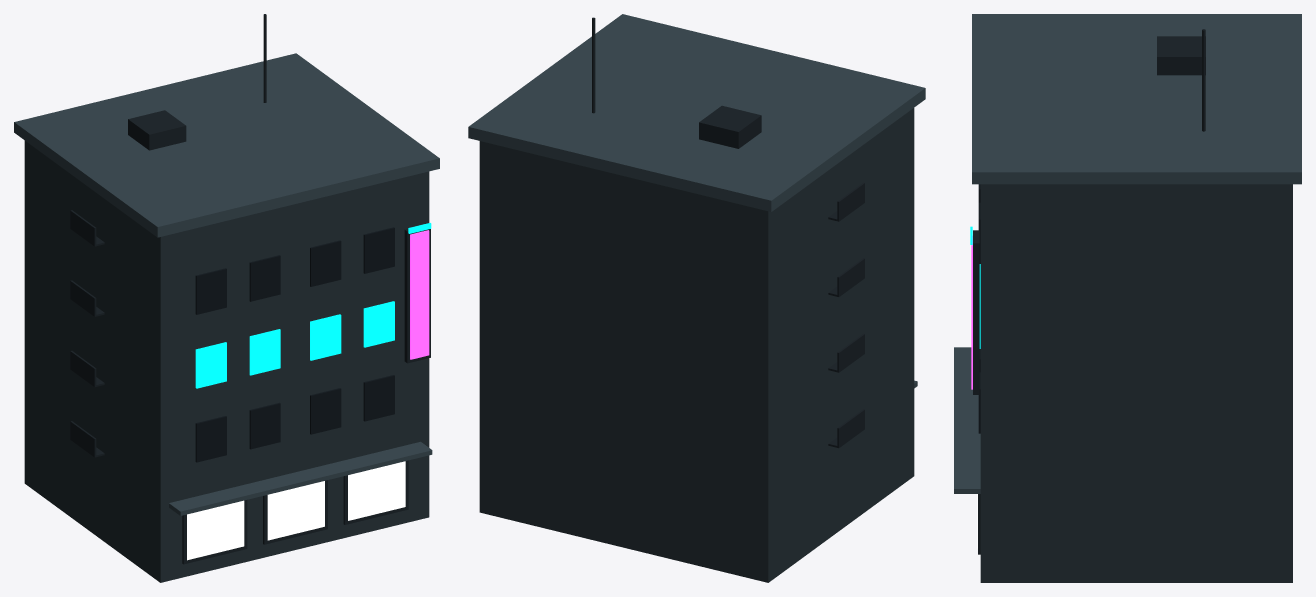
The model's file is edificio_tiendas.glb.
The picture shows the model from 3 angles, left to right: view 1: azimuth 30°, elevation 25°; view 2: azimuth 150°, elevation 25°; view 3: azimuth 270°, elevation 25°; orthographic projection. The views are drawn at different scales.
Parts seen in each view (by area): view 1: Edificio_Tiendas_Mesh; view 2: Edificio_Tiendas_Mesh; view 3: Edificio_Tiendas_Mesh.
Part boxes in pixels (x1,y1,x2,y2): Edificio_Tiendas_Mesh: [14, 14, 439, 582]; Edificio_Tiendas_Mesh: [468, 14, 925, 582]; Edificio_Tiendas_Mesh: [954, 14, 1301, 582].
Bounding box in the file's own units: 17 × 25.5 × 15.6.
